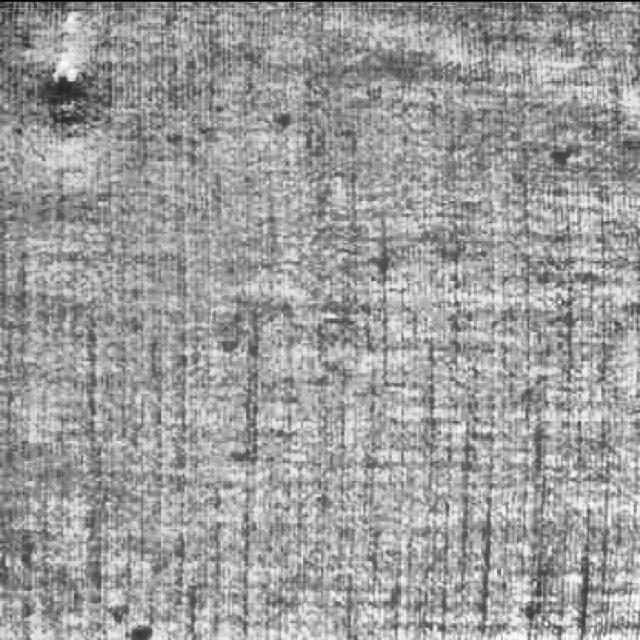thread_error: (35, 0, 103, 136)
